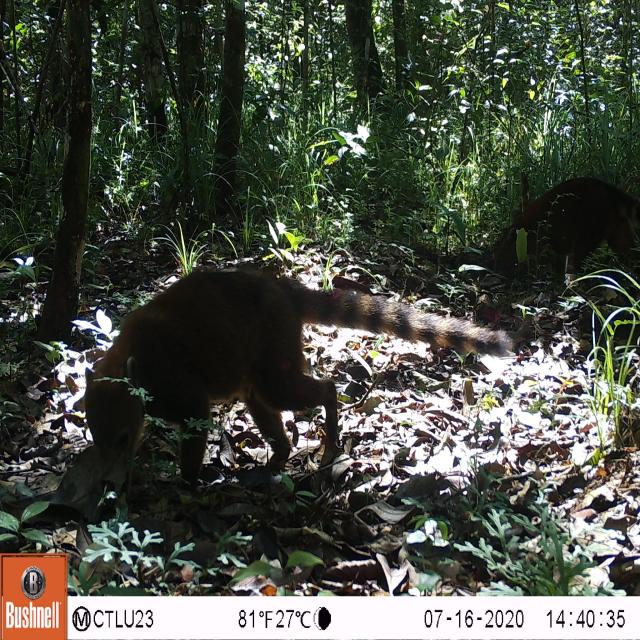South American Coati: (44, 228, 554, 529)
